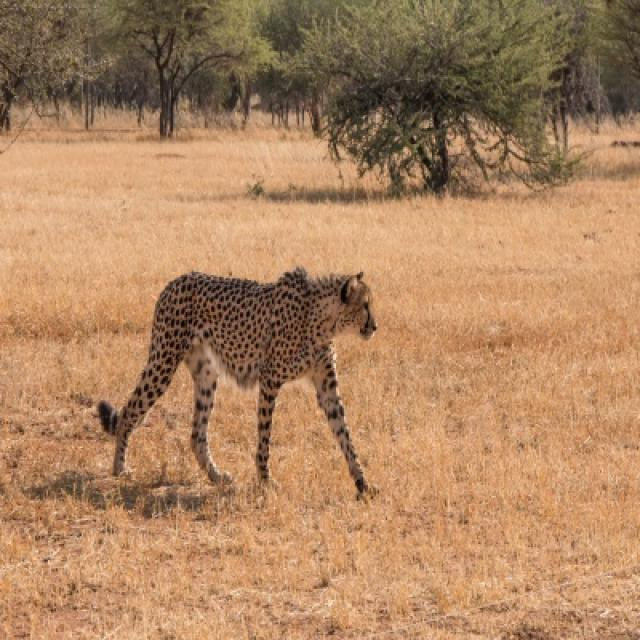Cheetah: (98, 267, 376, 491)
